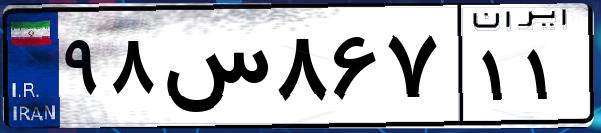1: (475, 38, 525, 113), (525, 38, 570, 115)
6: (330, 28, 385, 110)
7: (385, 28, 445, 110)
8: (270, 28, 330, 110), (110, 28, 158, 98)
9: (57, 26, 110, 100)
س: (158, 20, 270, 120)
